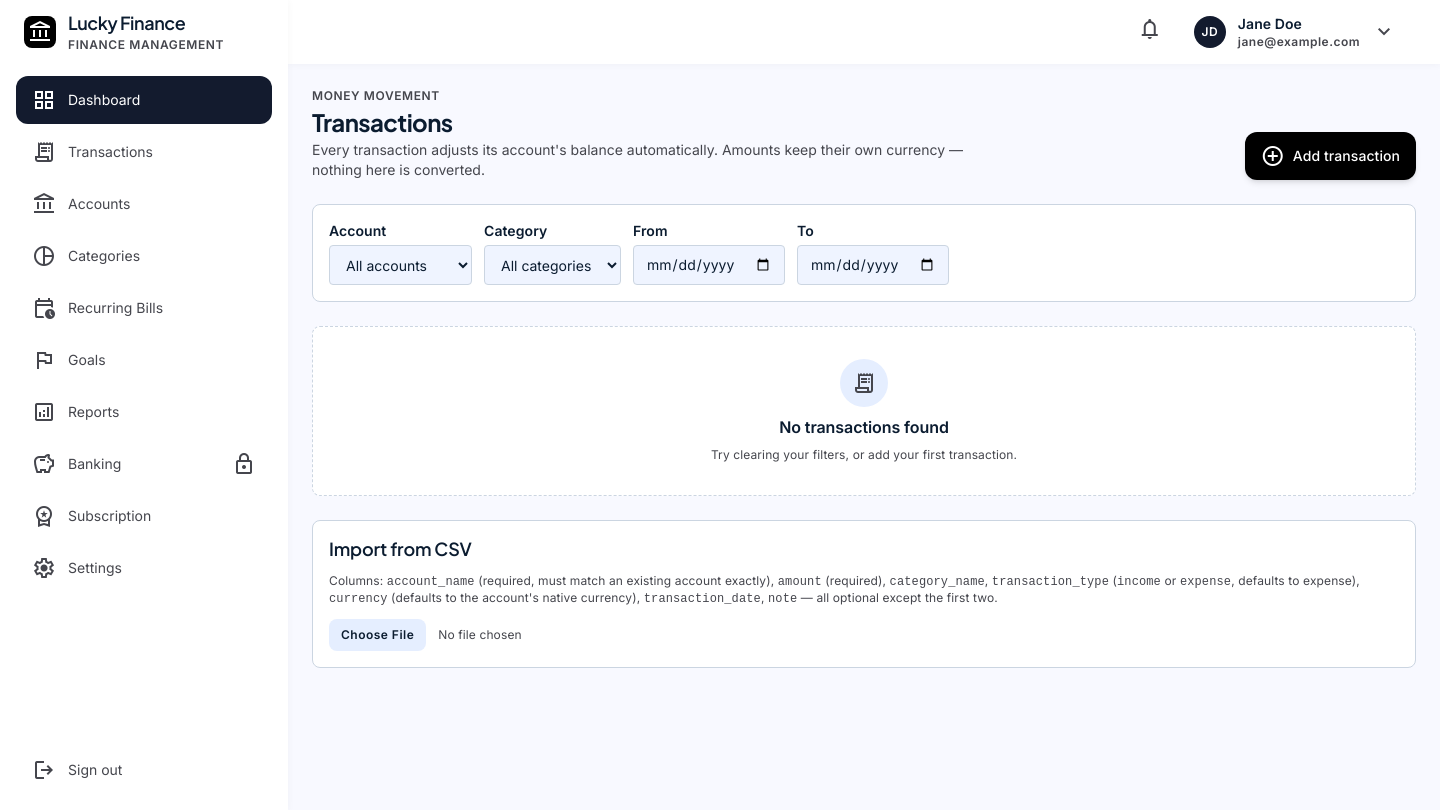
Test case: TransactionsPage › creates an income transaction with category_id null when left uncategorized
This screenshot has width=1440, height=810.
expect the text "No transactions found" is shown: met, box [779,415,949,439]
Click the button "Add transaction" at coordinates (1330, 156), box [1245,132,1416,180]
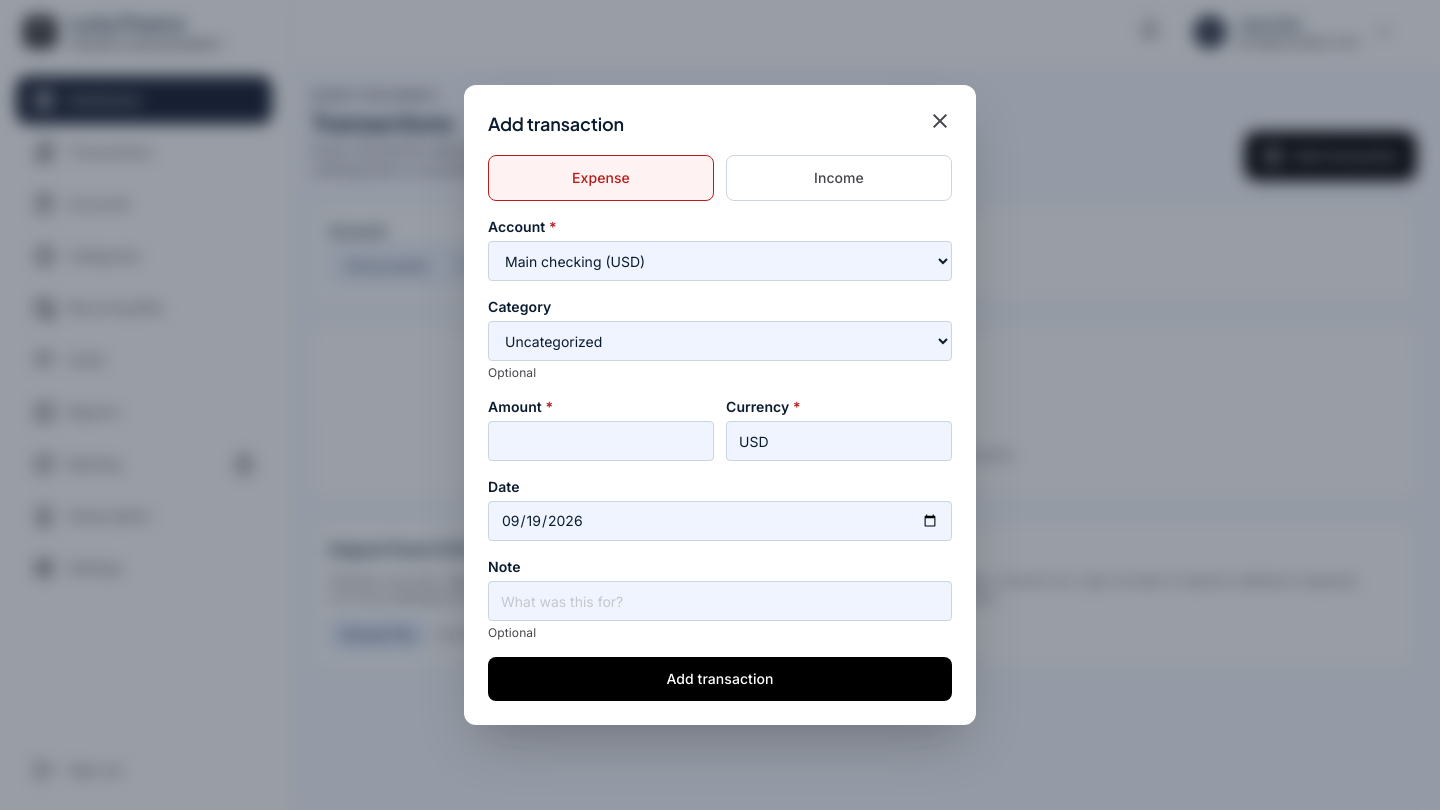
Click the button "Income" at coordinates (839, 178), box [726,155,952,201]
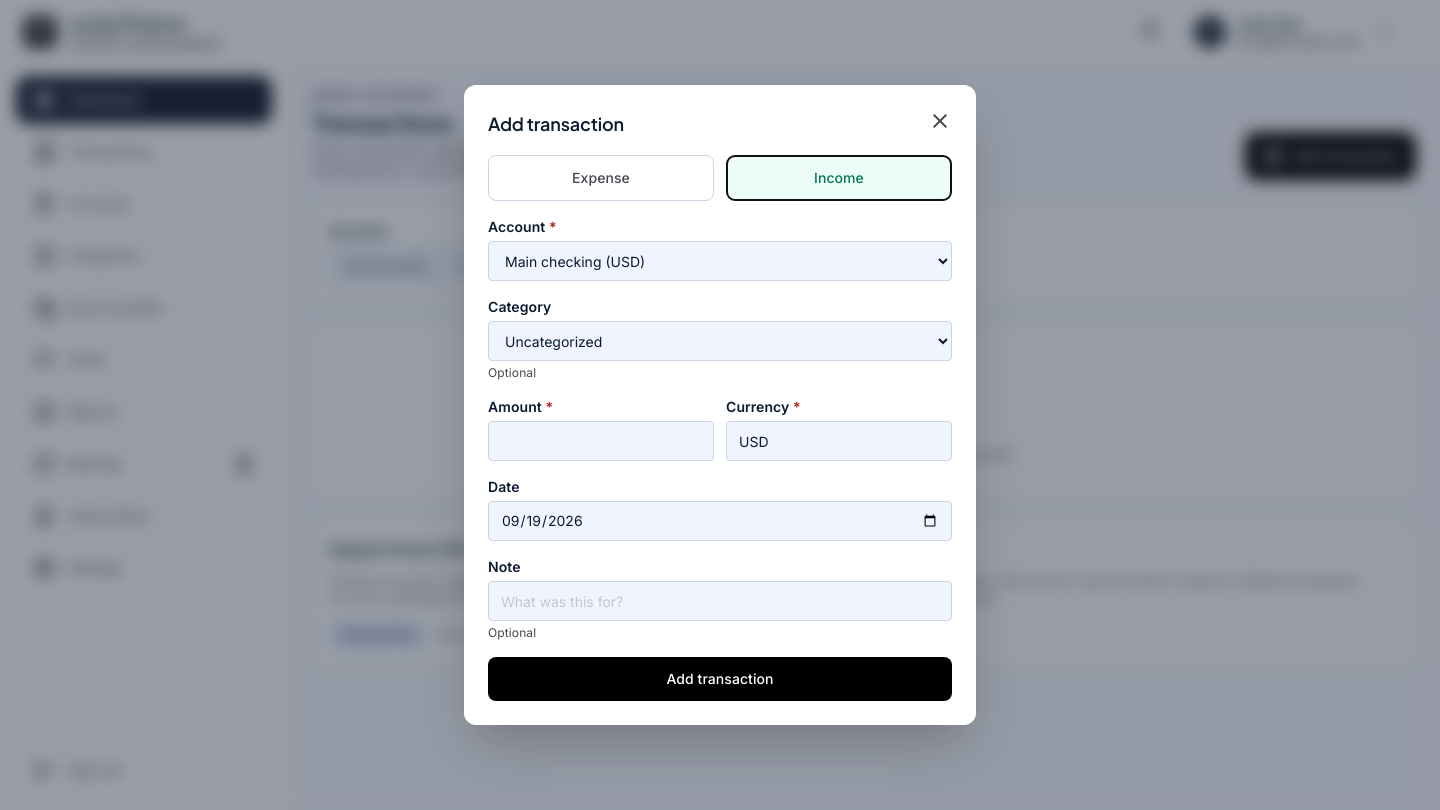
Type "1200" into the number field labelled "Amount *" at coordinates (601, 441), box [488,421,714,461]
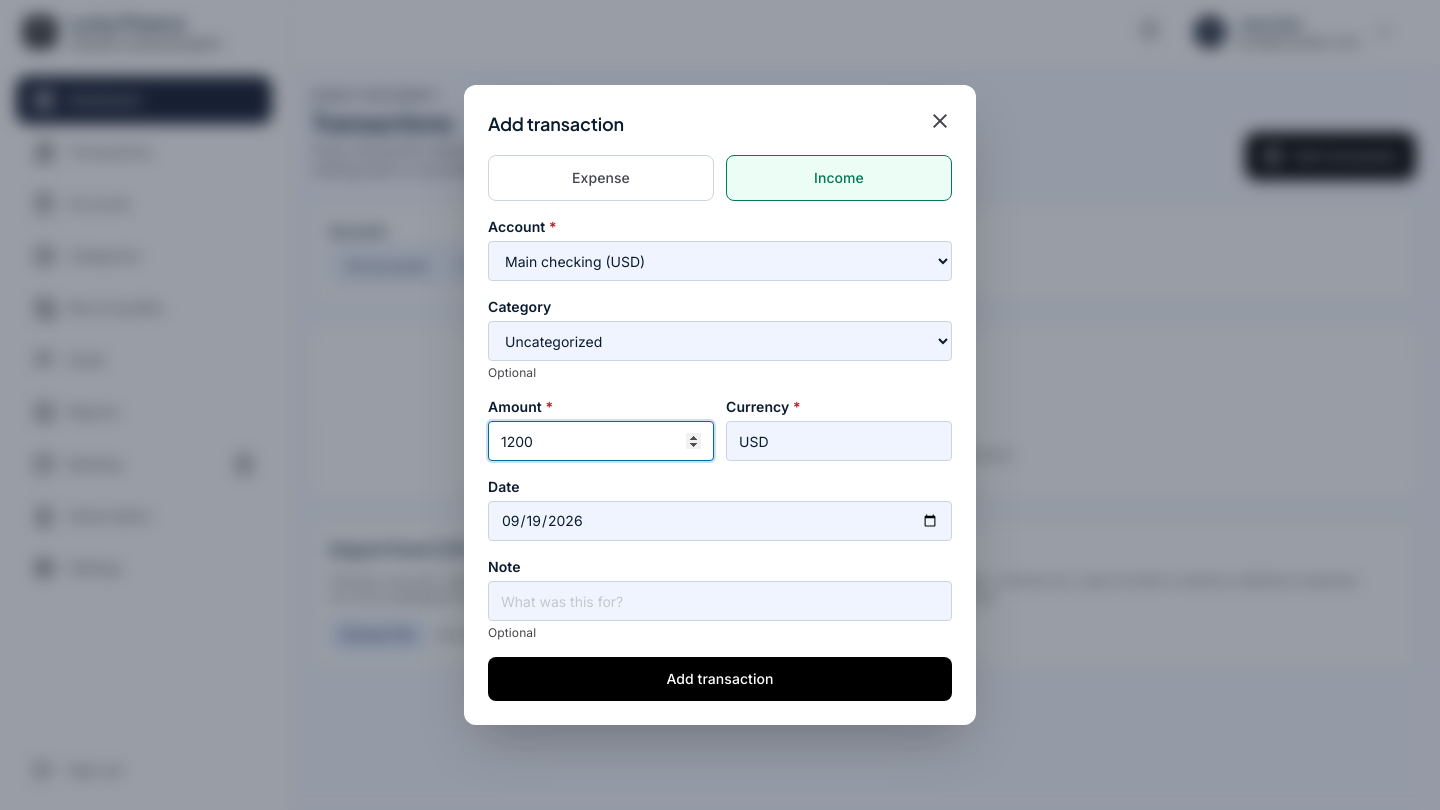
Type "Paycheck" into the field labelled "Note" at coordinates (720, 601), box [488,581,952,621]
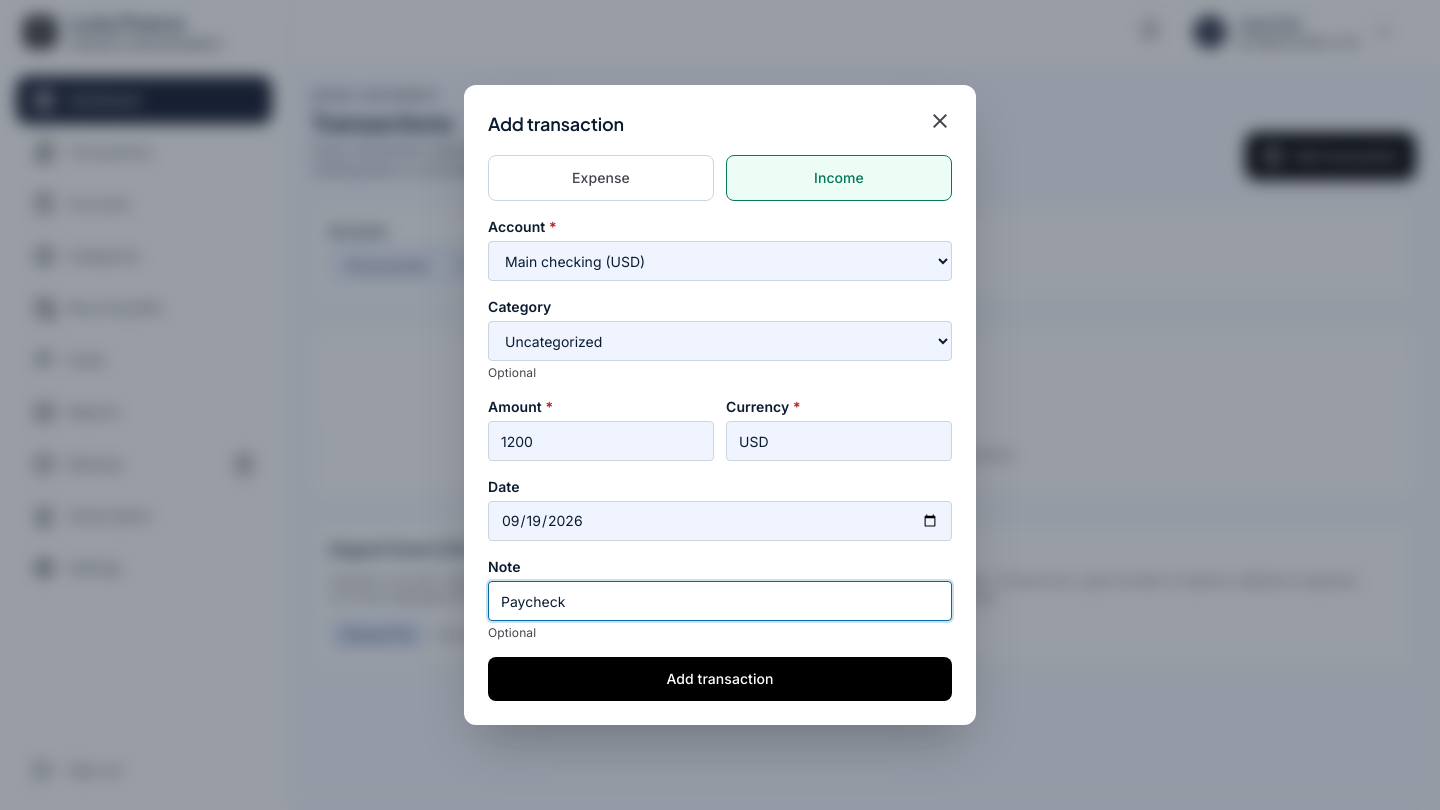
Click the submit button at coordinates (720, 679), box [488,657,952,701]
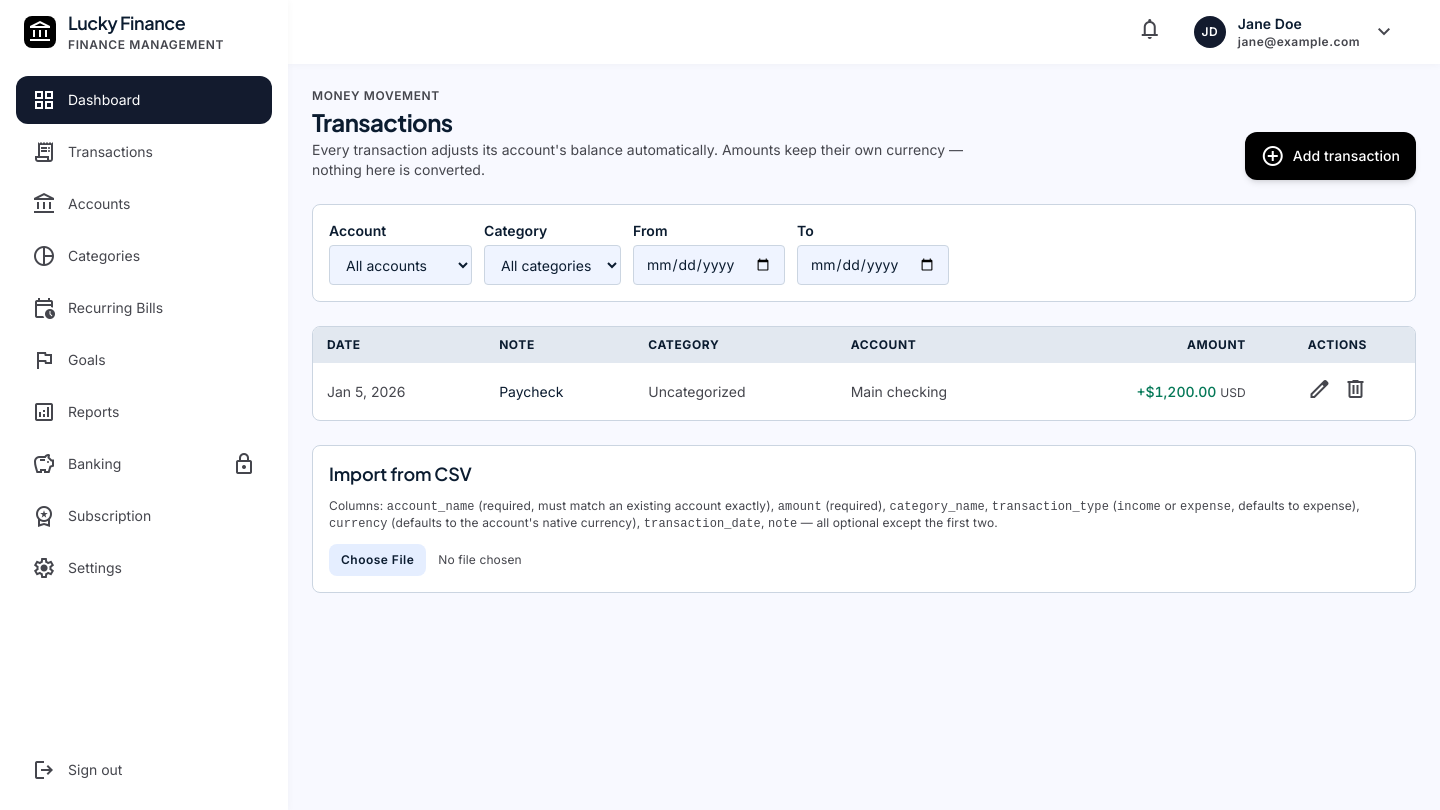
expect the text "Paycheck" is shown: met, box [485,363,634,420]
